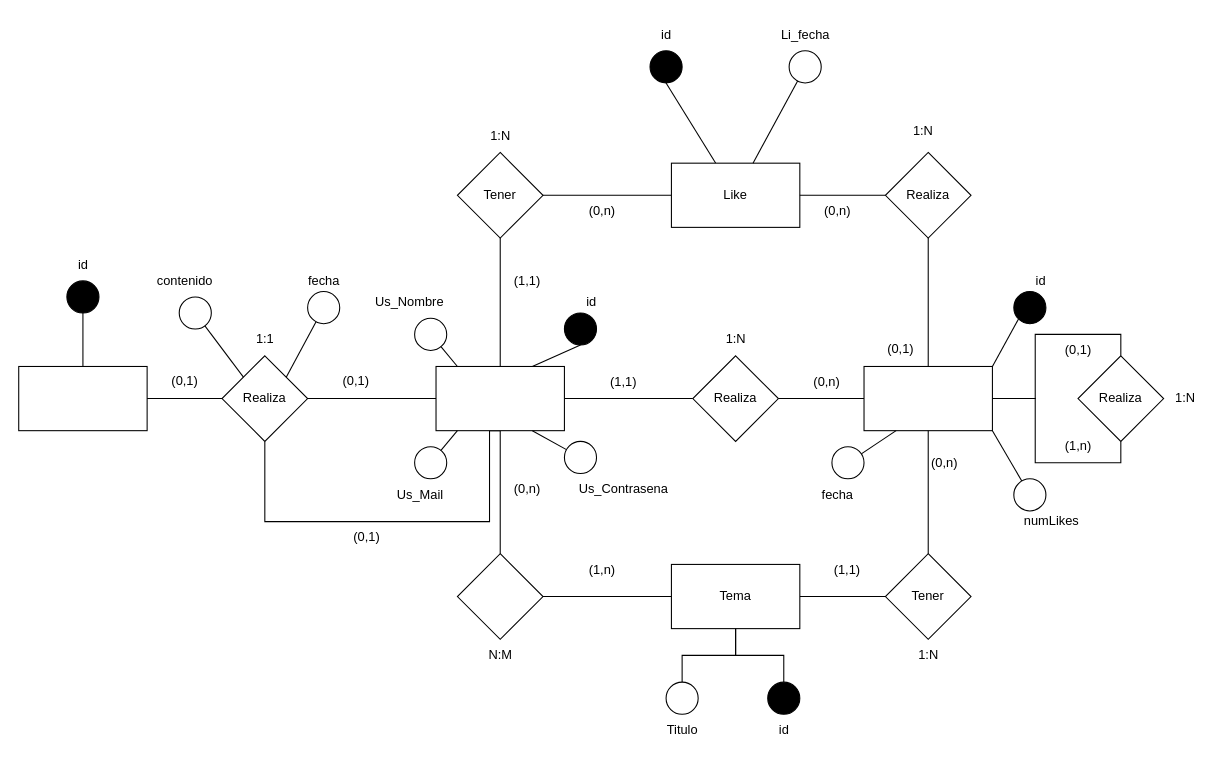
Some shapes in this 1225 by 764 pixel diagram are drawn without their labels. The shapes that lost their labels are listed below. From the top down, each one's centre as x and y in pixels, then its label:
[82,398]: Chat
[499,398]: Usuario
[927,398]: Publicacion
[499,596]: Interes
